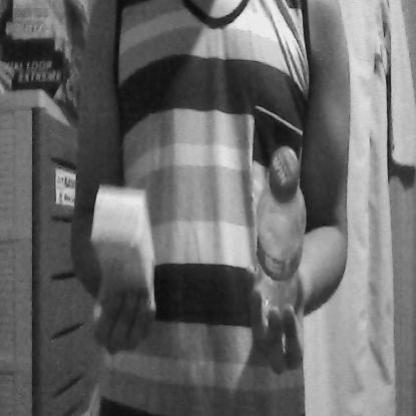Plastic Bottle: (249, 140, 312, 338)
